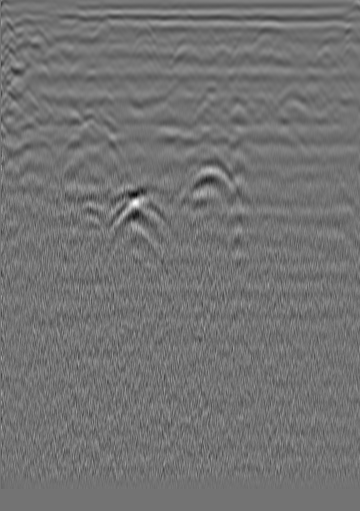가스: (109, 193, 161, 240)
상수: (320, 38, 340, 58)
오수: (26, 26, 46, 46)
우수: (170, 36, 190, 56)
